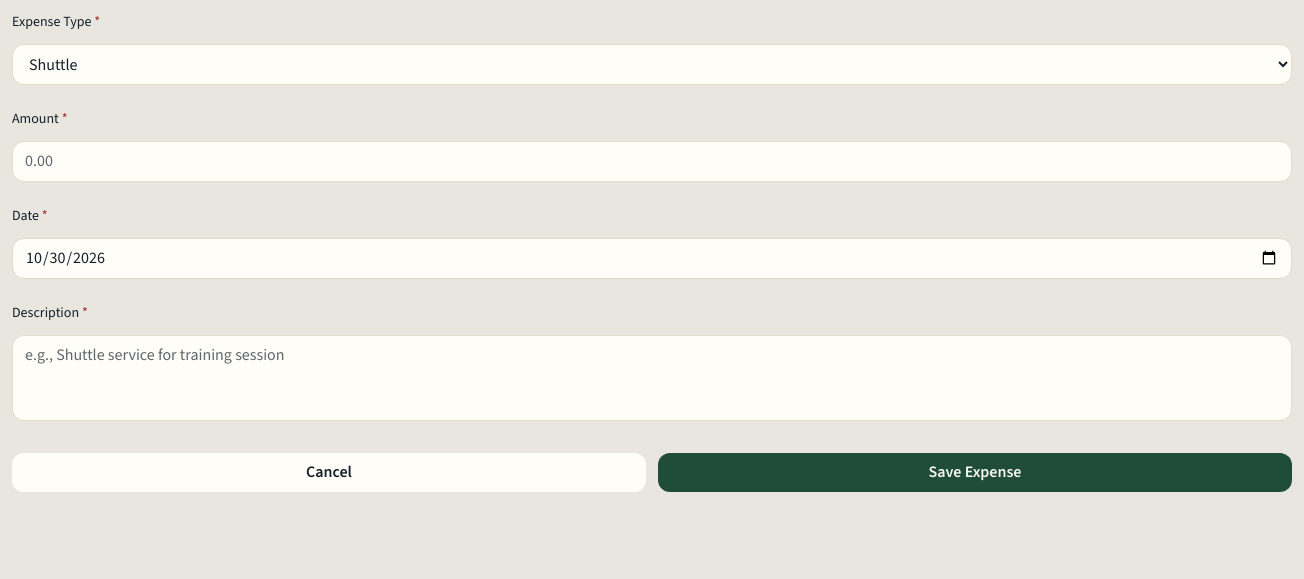
AddExpenseForm › Form Submission › shows error when submission fails
In the number field labelled "Amount *": (652, 161) [12,141,1292,182], type "100"
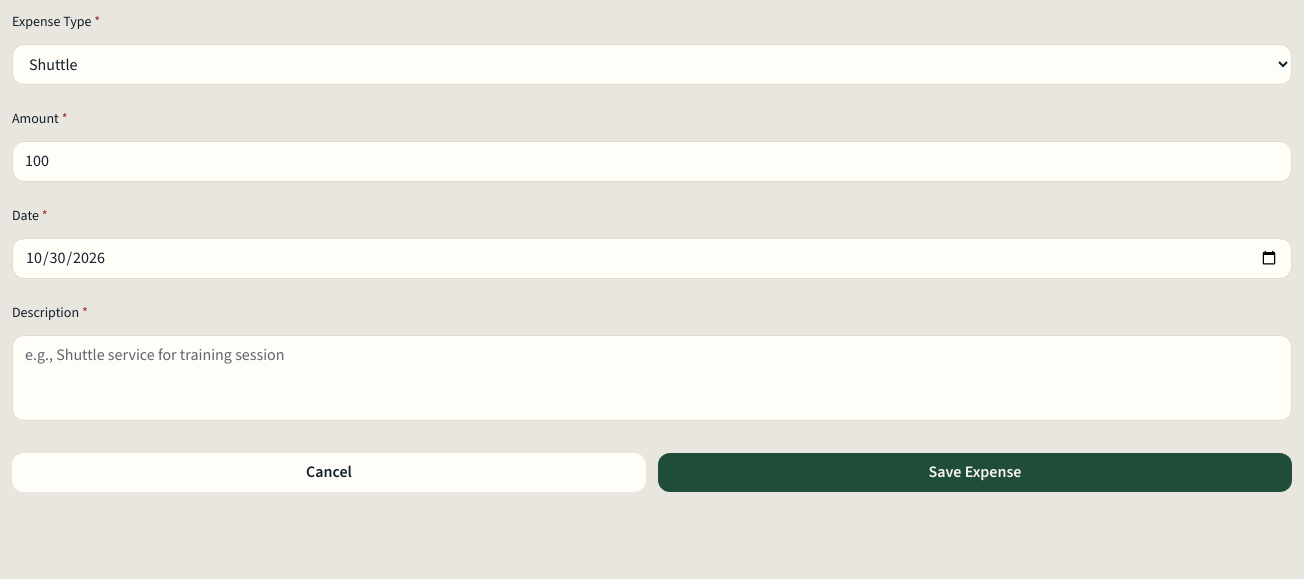
In the text box labelled "Description *": (652, 378) [12,335,1292,421], type "Test"
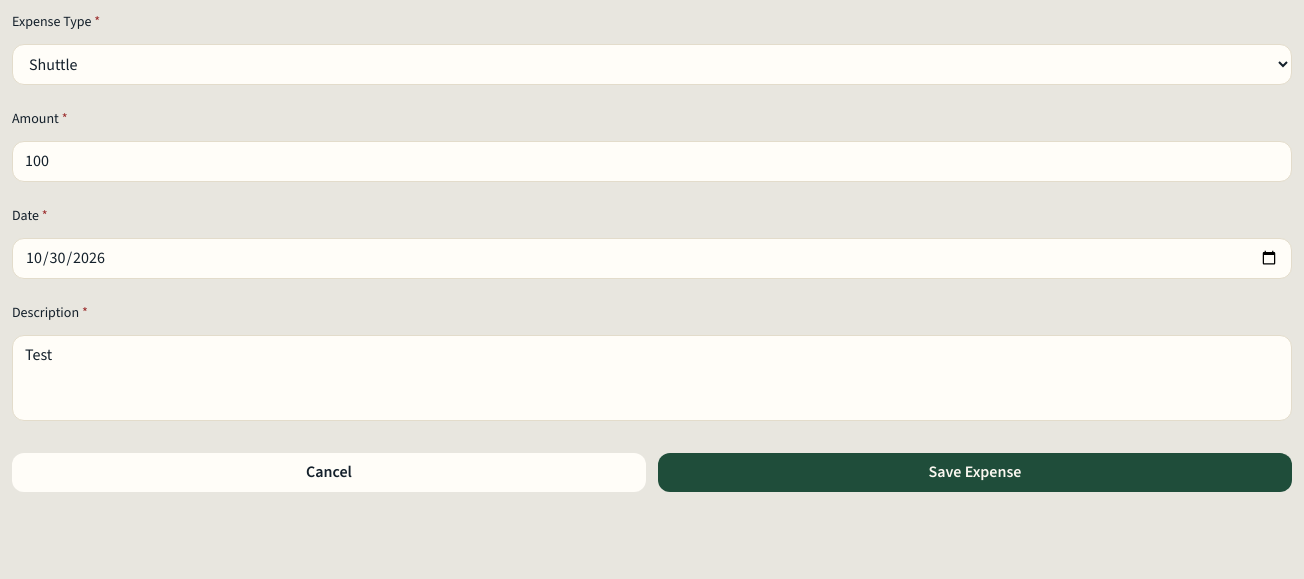
Click the button "Save Expense": (975, 473) [658,453,1292,492]
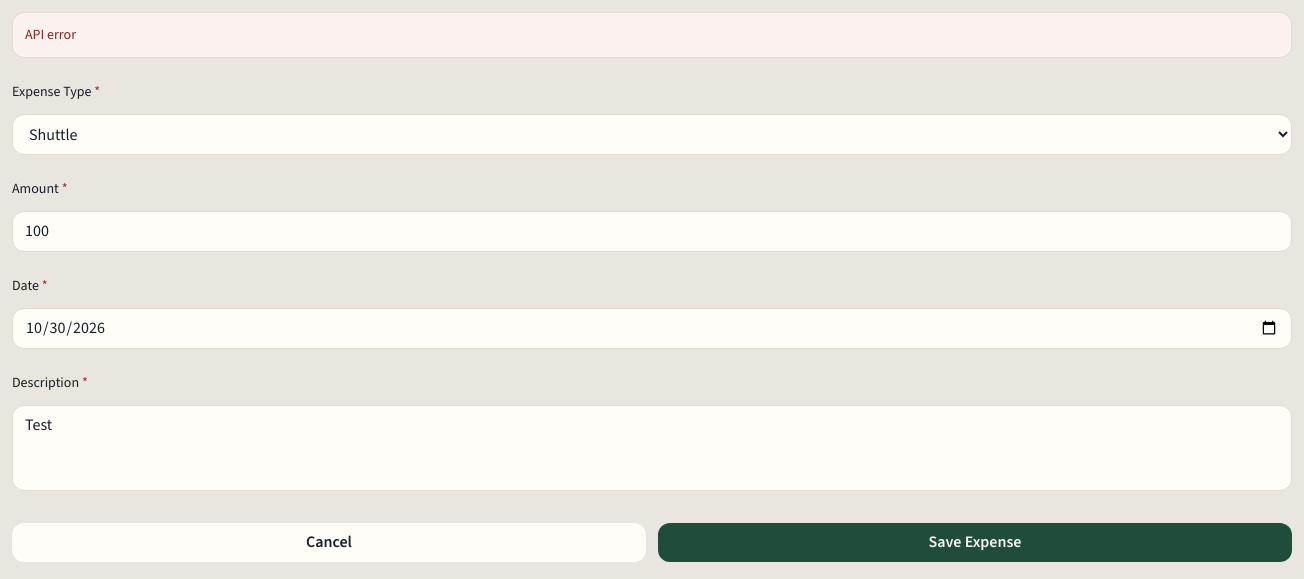
Now the text "API error" is shown, box [12,12,1292,58]
